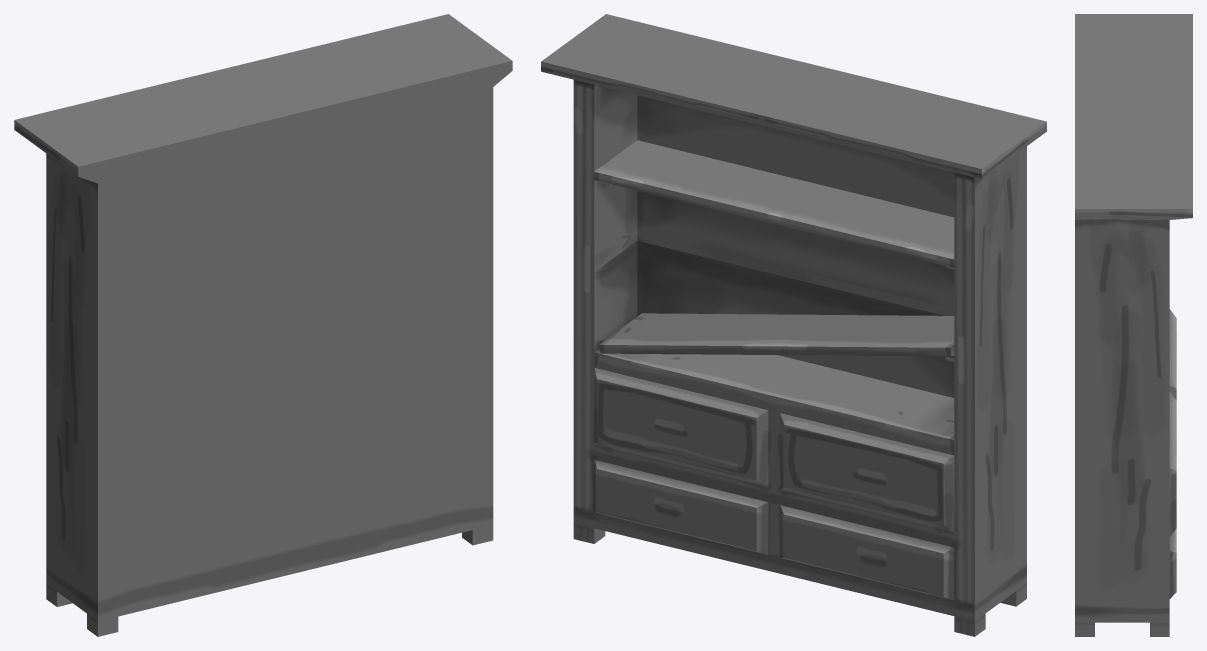
File: obj_BookShelf.fbx
3 views of the same model, side by side, from view 1: azimuth 30°, elevation 25°; view 2: azimuth 150°, elevation 25°; view 3: azimuth 270°, elevation 25° (orthographic). The views are drawn at different scales.
Parts seen in each view (by area): view 1: obj_BookShelf; view 2: obj_BookShelf; view 3: obj_BookShelf.
Boxes of the visible parts, bbox=[...] form: obj_BookShelf: bbox=[14, 14, 512, 636]; obj_BookShelf: bbox=[541, 14, 1046, 636]; obj_BookShelf: bbox=[1075, 14, 1192, 636].
Bounding box in the file's own units: 1.81 × 1.89 × 0.463.
Materials: 1 (1 with a texture image).
